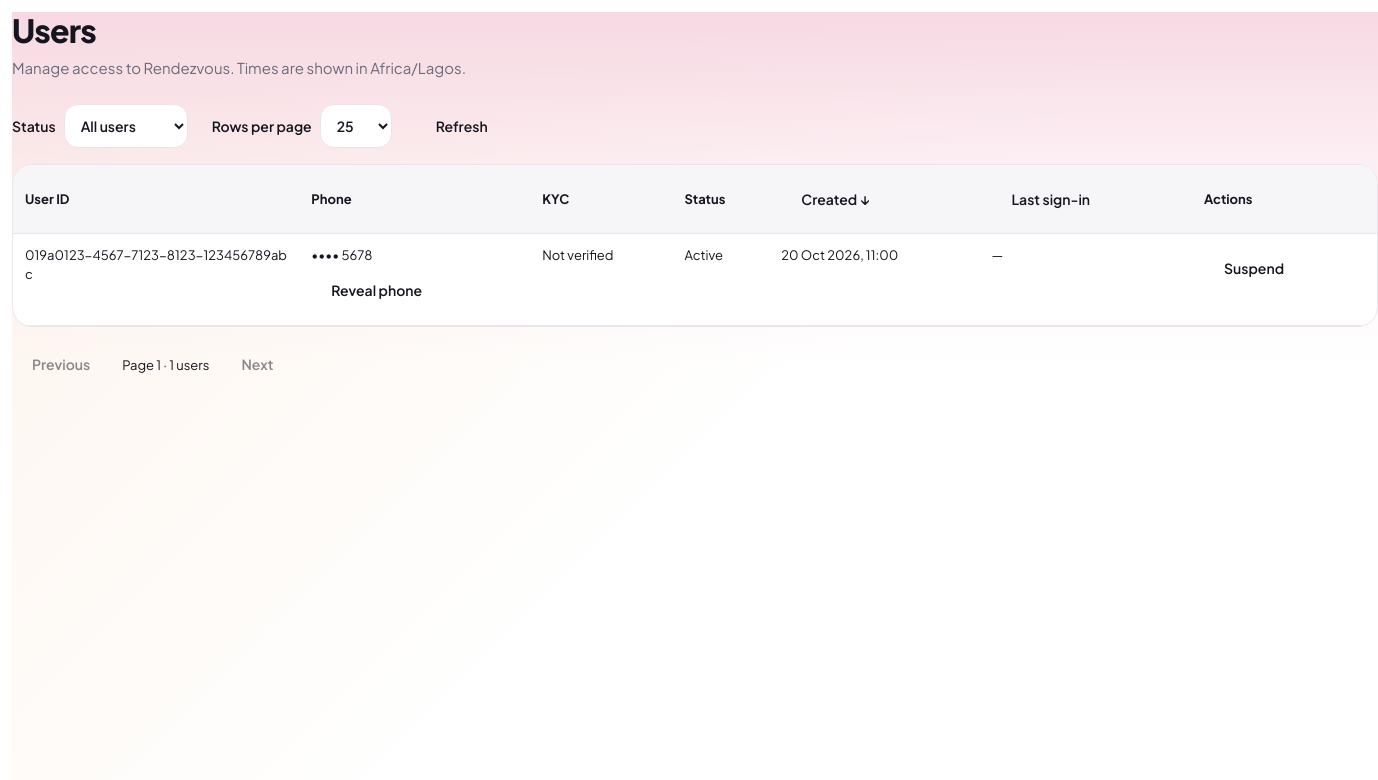
users console › disables confirmation during the request
Click the button "Suspend" at {"x": 1254, "y": 268}, box [1204,246,1304,290]
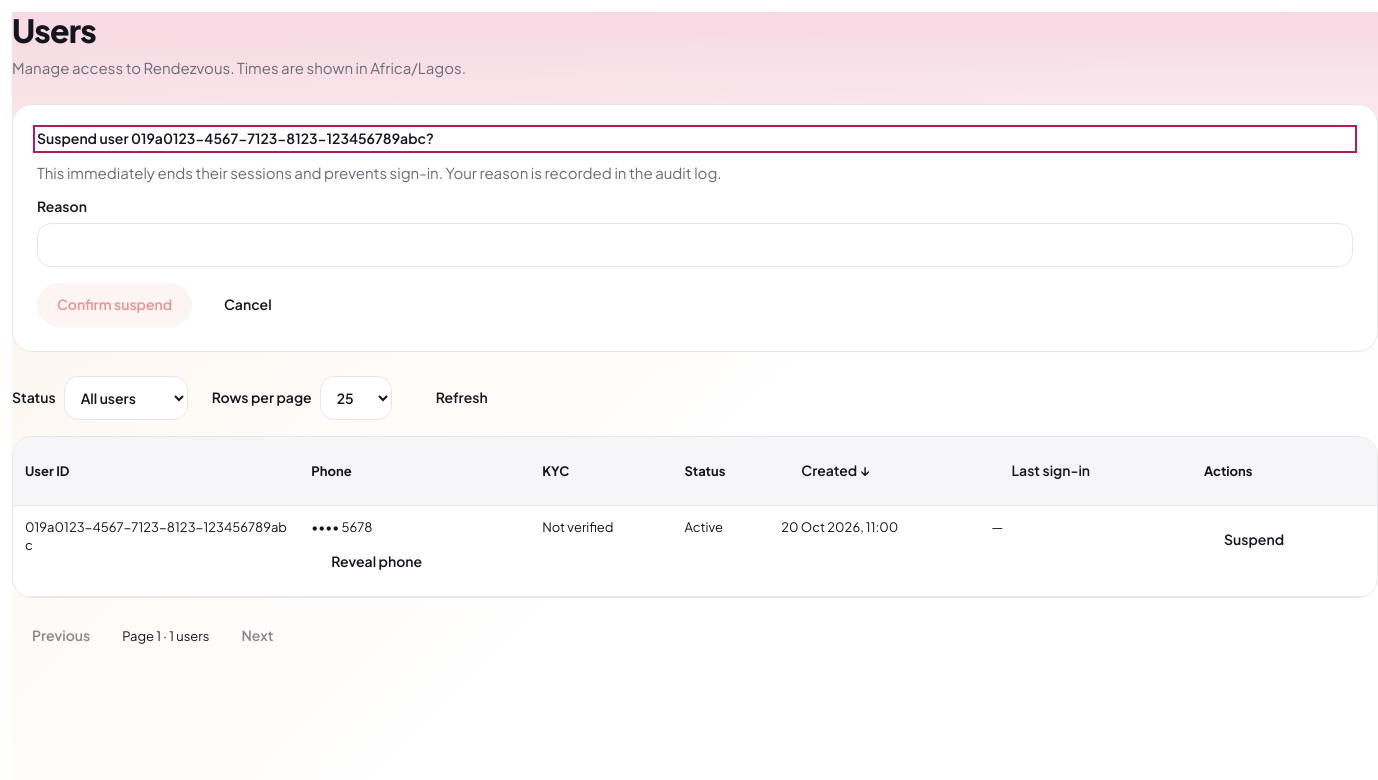
Type "Review" into the field labelled "Reason" at {"x": 695, "y": 245}, box [37,223,1353,267]
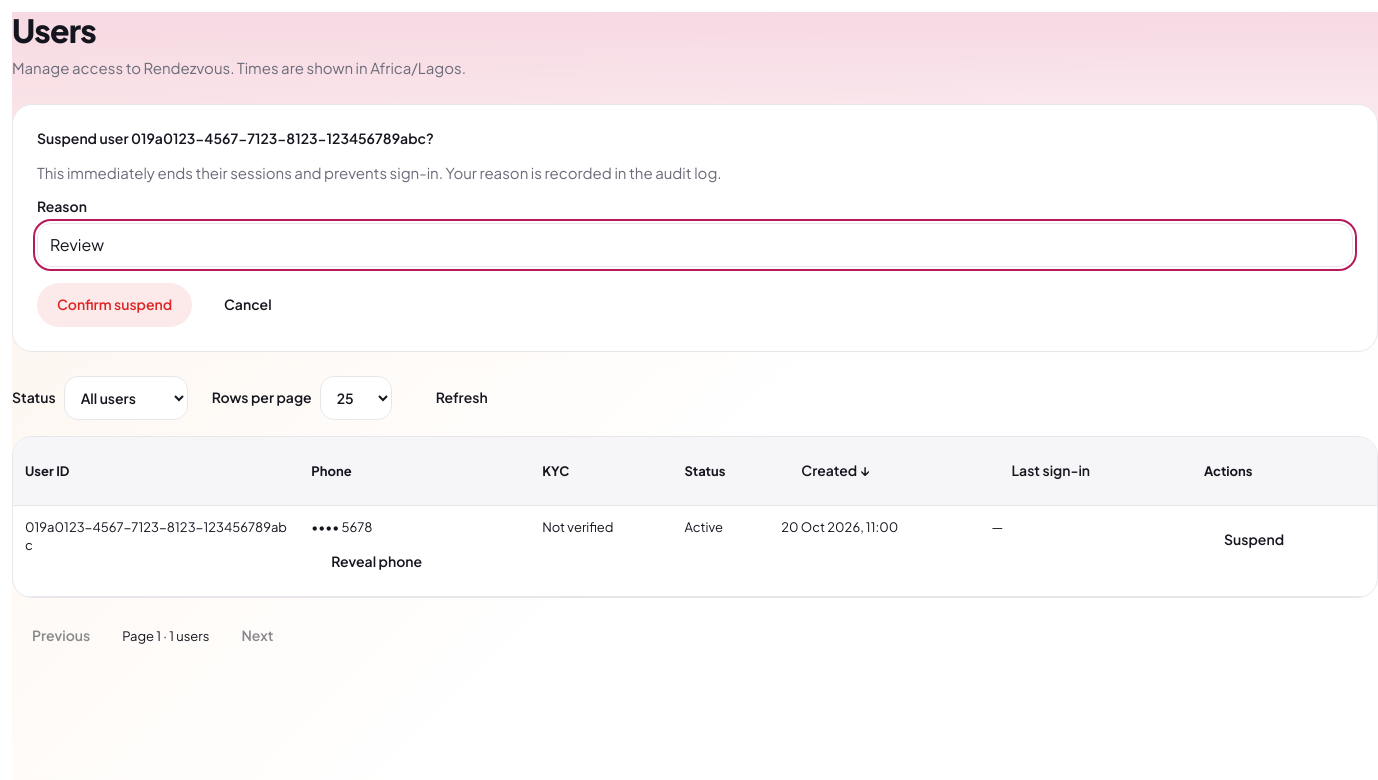
Click the button "Confirm suspend" at {"x": 115, "y": 305}, box [37,283,192,327]
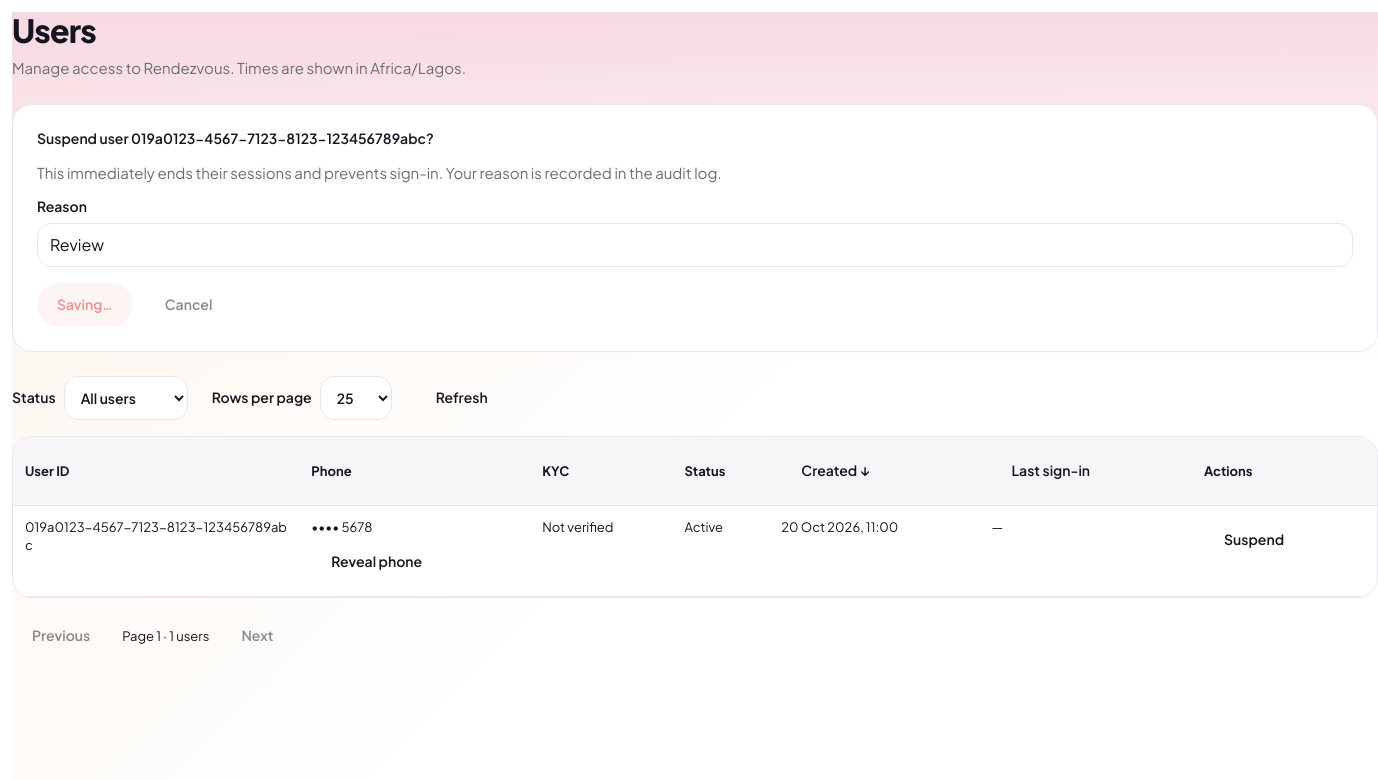
Expected: the button "Saving…" is disabled, [37,283,133,327]
Expected: the button "Cancel" is disabled, [145,283,232,327]
